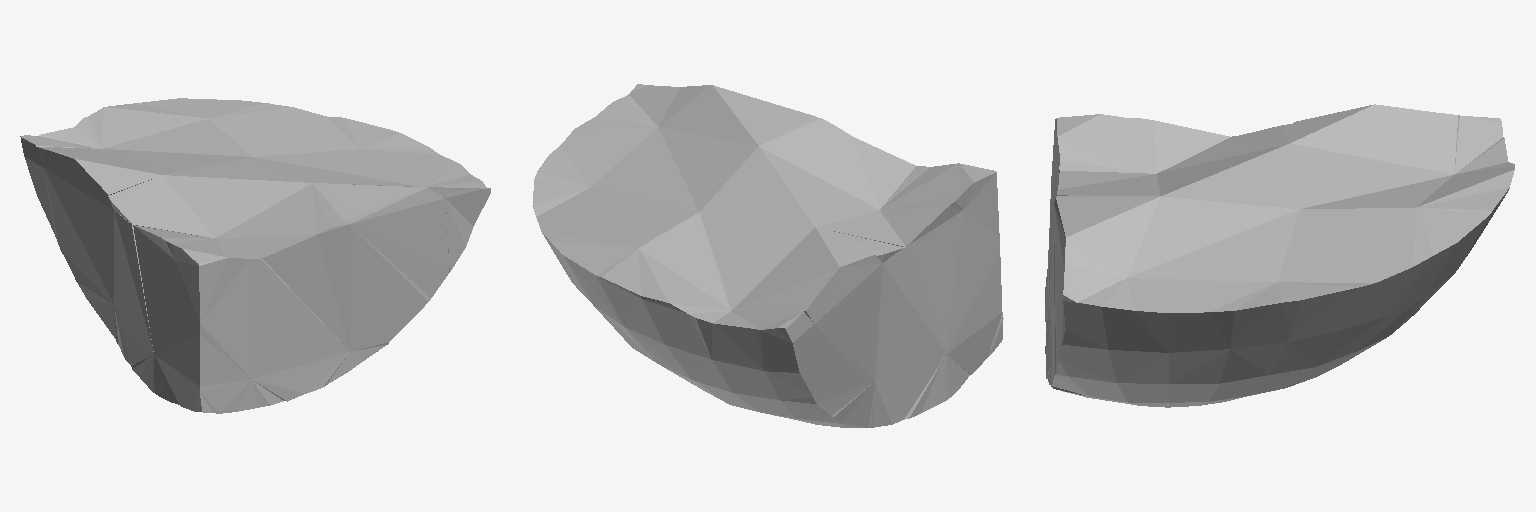
URDF robot description (root):
<?xml version='1.0' encoding='utf-8'?>
<robot name="root">
  <link name="link_001">
    <visual>
      <origin xyz="0 0 0" rpy="0 0 0" />
      <geometry>
        <mesh filename="cbe94b6bf4825ab21dfc90eb1a643dac46b05193ea25b1fda0fb1be07c451d16_scale_010.stl" scale="1.0000E+00 1.0000E+00 1.0000E+00" />
      </geometry>
      <material name="">
        <color rgba="7.50E-01 7.50E-01 7.50E-01 1" />
      </material>
    </visual>
    <collision>
      <origin xyz="0 0 0" rpy="0 0 0" />
      <geometry>
        <mesh filename="cbe94b6bf4825ab21dfc90eb1a643dac46b05193ea25b1fda0fb1be07c451d16_scale_010.stl" scale="1.0000E+00 1.0000E+00 1.0000E+00" />
      </geometry>
    </collision>
  </link>
</robot>

--- What the picture shows (computed from the rendered views, not written in the file) ---
Views: 3 orthographic renders of the robot side by side, from view 1: azimuth 30°, elevation 25°; view 2: azimuth 150°, elevation 25°; view 3: azimuth 270°, elevation 25°.
Robot: root — 1 links, 0 joints (none); root link link_001; default pose: all joints at 0.
Visible links, largest first — view 1: link_001; view 2: link_001; view 3: link_001.
Link boxes in pixels (<box>): link_001: <box>20,98,490,413</box>; link_001: <box>532,84,1003,427</box>; link_001: <box>1045,104,1514,407</box>.
Bounding box of the posed robot: 0.1159 × 0.1222 × 0.067 m (x, y, z).
Meshes: 1 distinct files referenced, 1 mesh visuals loaded (1 binary STL).
